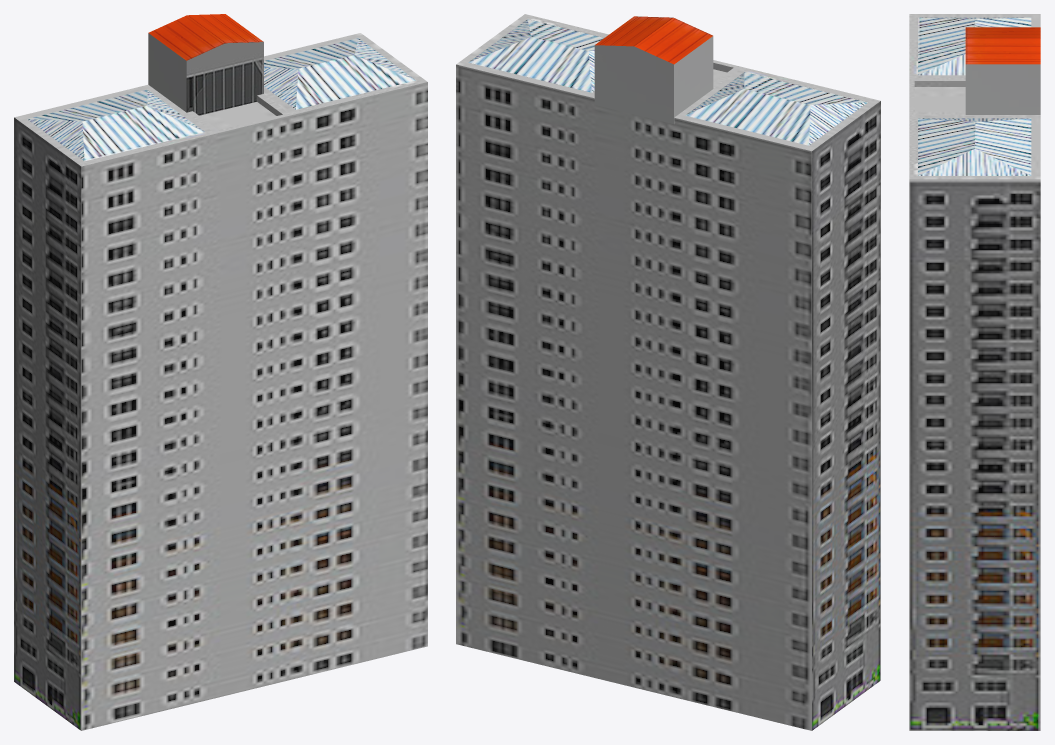
File: torreventura.fbx
3 renders of one model, left to right at view 1: azimuth 30°, elevation 25°; view 2: azimuth 150°, elevation 25°; view 3: azimuth 270°, elevation 25°, orthographic. The views are drawn at different scales.
Parts seen in each view (by area): view 1: Cube.001, Cube; view 2: Cube.001, Cube; view 3: Cube.001, Cube.
Part boxes in pixels (left/top/right/bottom): Cube.001: left=14, top=33, right=427, bottom=730; Cube: left=148, top=14, right=263, bottom=115; Cube.001: left=456, top=14, right=880, bottom=730; Cube: left=594, top=16, right=713, bottom=123; Cube.001: left=909, top=14, right=1040, bottom=730; Cube: left=965, top=27, right=1040, bottom=114.
Bounding box in the file's own units: 4499 × 7746 × 1511.
